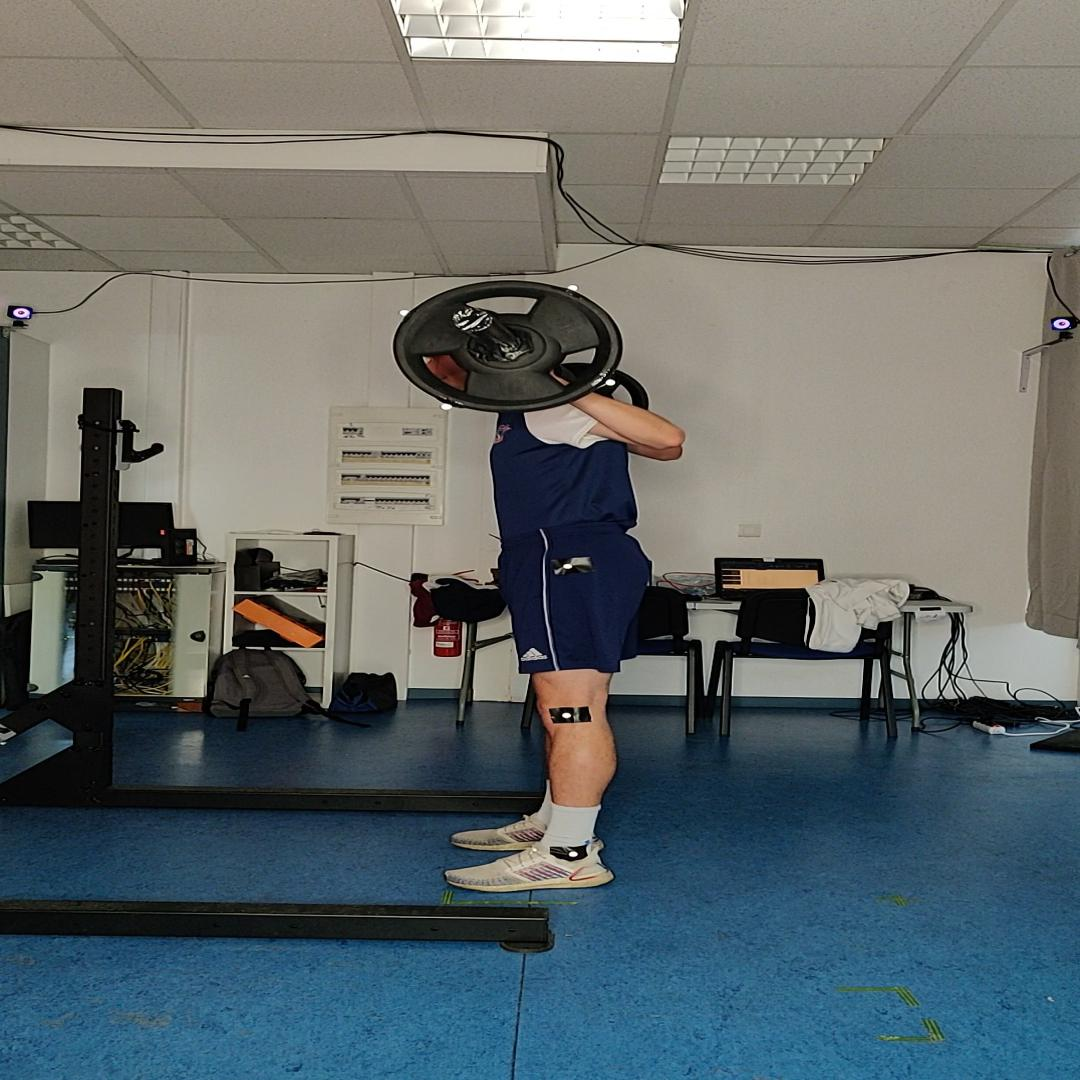Bar: (452, 307, 493, 332)
Barbell: (393, 280, 623, 413)
